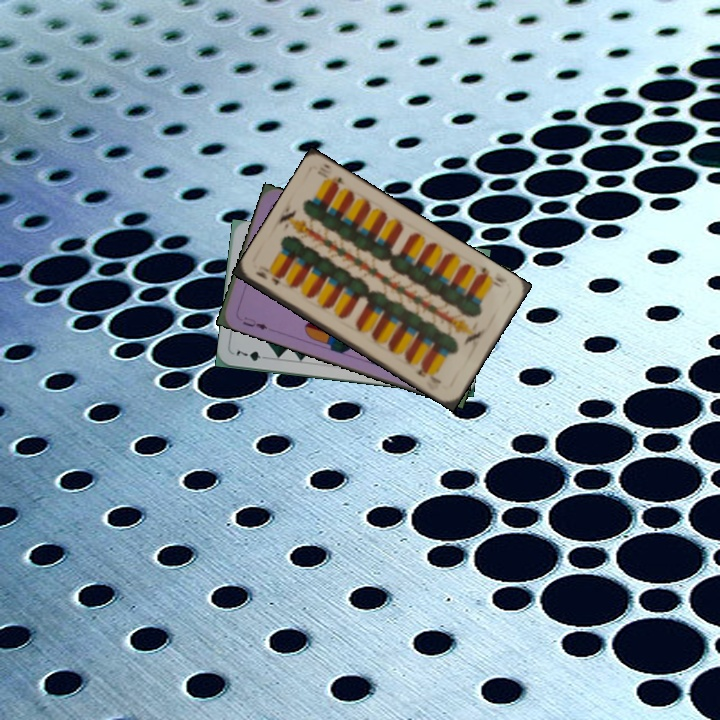E10: (473, 263, 510, 290), (252, 267, 283, 288)
EU: (238, 313, 270, 333)
G7: (232, 346, 272, 364)
